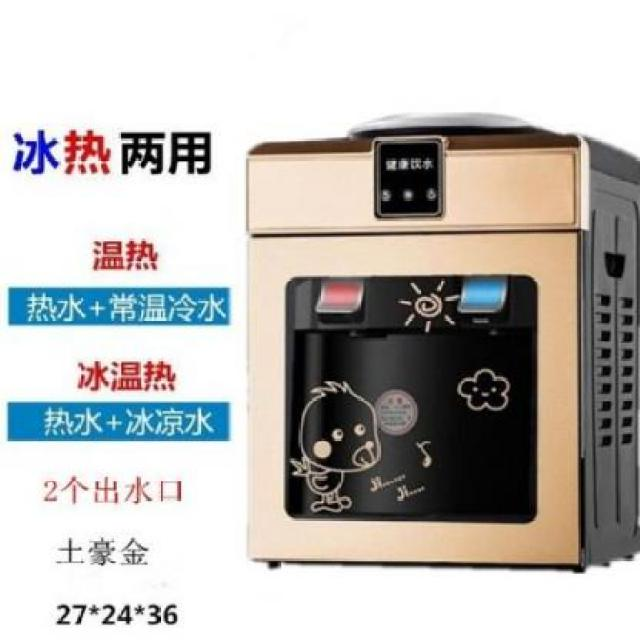cooler: (237, 108, 640, 573)
